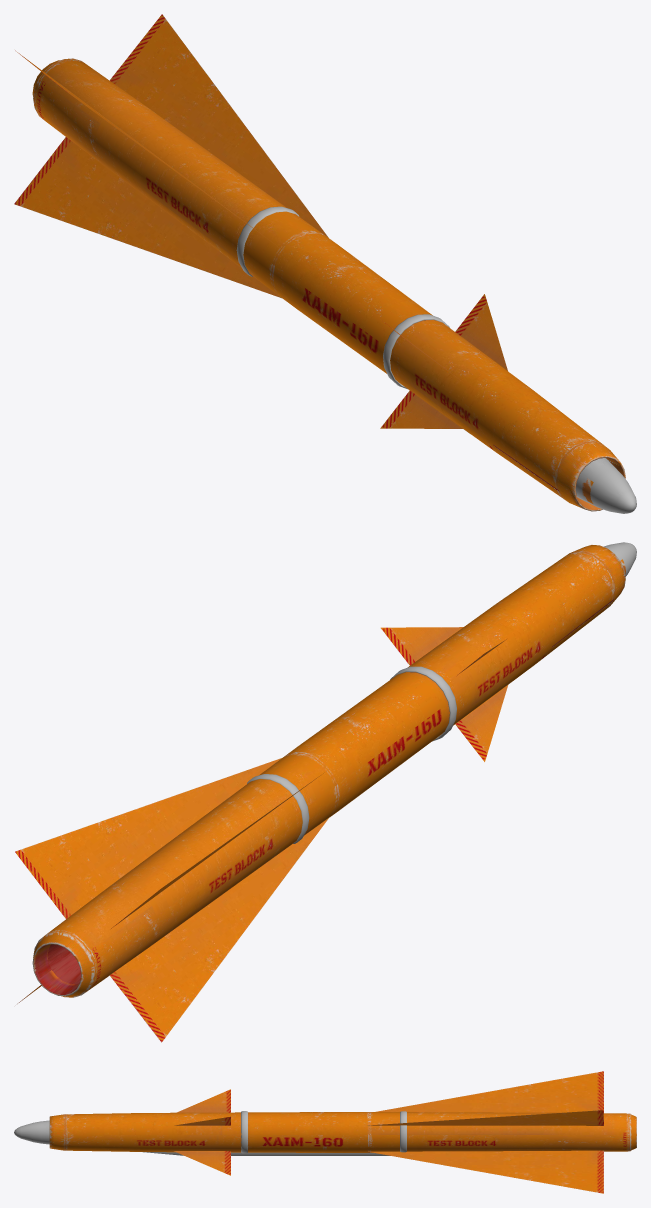
The model's file is missile.fbx.
3 renders of one model, top to bottom at view 1: azimuth 30°, elevation 25°; view 2: azimuth 150°, elevation 25°; view 3: azimuth 270°, elevation 25°, orthographic. The views are drawn at different scales.
Parts seen in each view (by area): view 1: Object002; view 2: Object002; view 3: Object002.
Boxes of the visible parts, x1,y1,x2,y2 form: Object002: (14, 14, 636, 513); Object002: (15, 542, 636, 1042); Object002: (14, 1071, 636, 1193).
Bounding box in the file's own units: 3.46 × 3.46 × 23.39.
